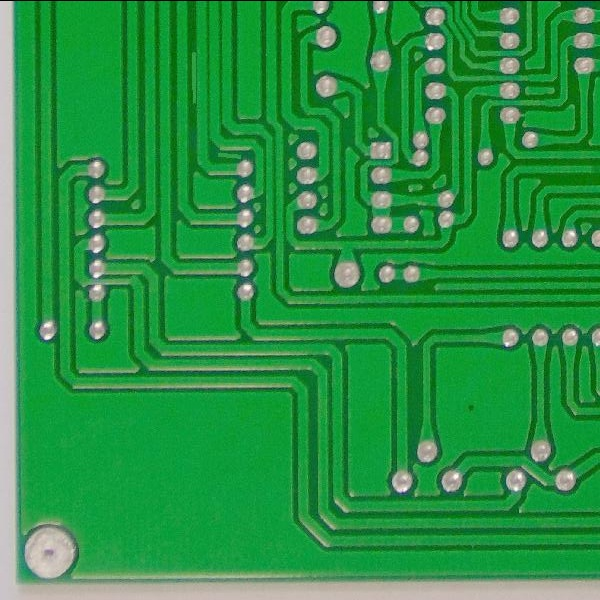spurious_copper: (183, 44, 202, 111), (213, 149, 246, 164)
